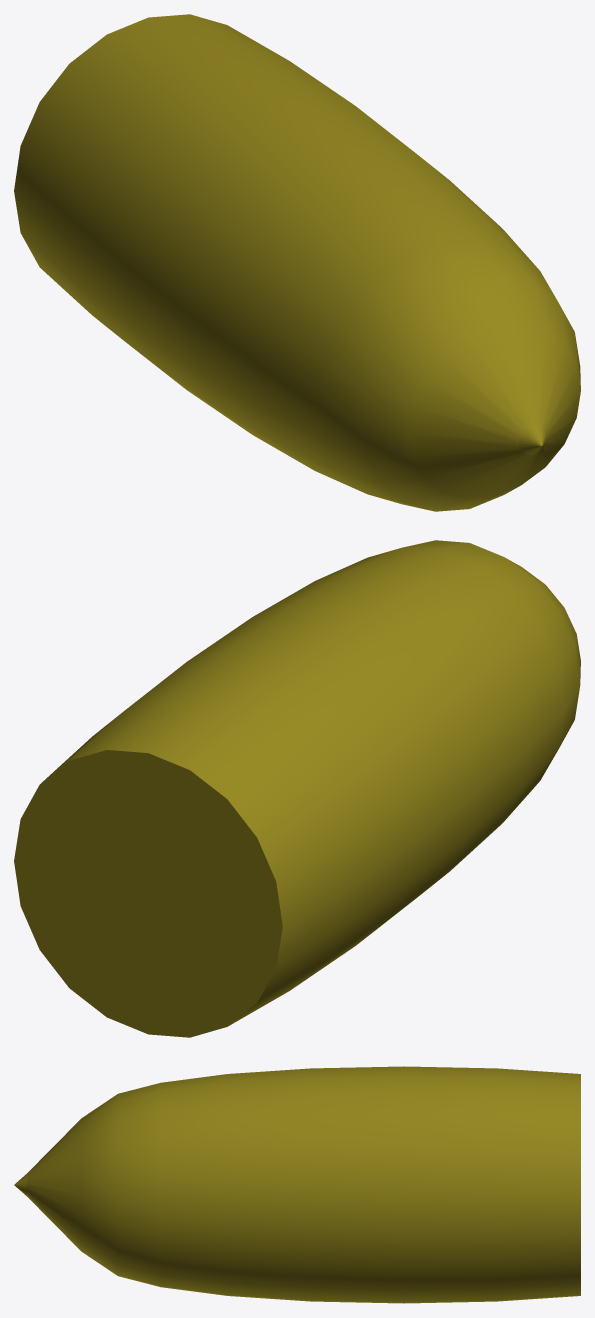
Rendered from Bullet.fbx.
The picture shows the model from 3 angles, top to bottom: view 1: azimuth 30°, elevation 25°; view 2: azimuth 150°, elevation 25°; view 3: azimuth 270°, elevation 25°; orthographic projection. The views are drawn at different scales.
Visible parts, largest first — view 1: pTorus1; view 2: pTorus1; view 3: pTorus1.
Boxes of the visible parts, x1=… form: pTorus1: x1=14, y1=14, x2=580, y2=511; pTorus1: x1=14, y1=540, x2=580, y2=1037; pTorus1: x1=14, y1=1066, x2=580, y2=1303.
Bounding box in the file's own units: 2.67 × 2.67 × 6.34.
